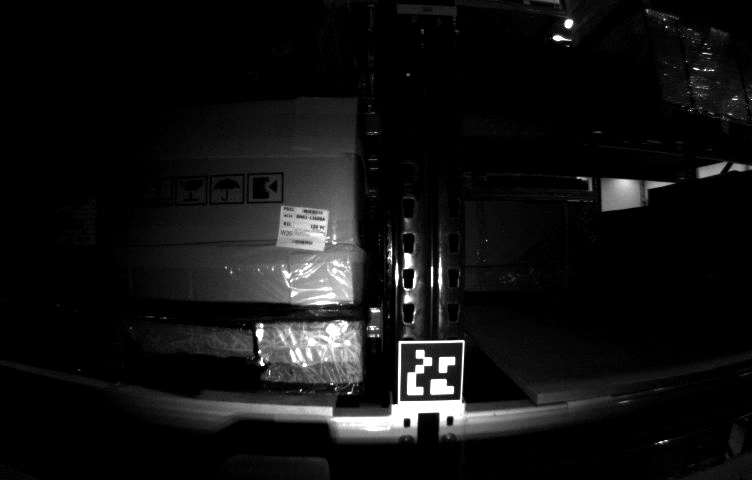True Barcode: (278, 203, 327, 254)
